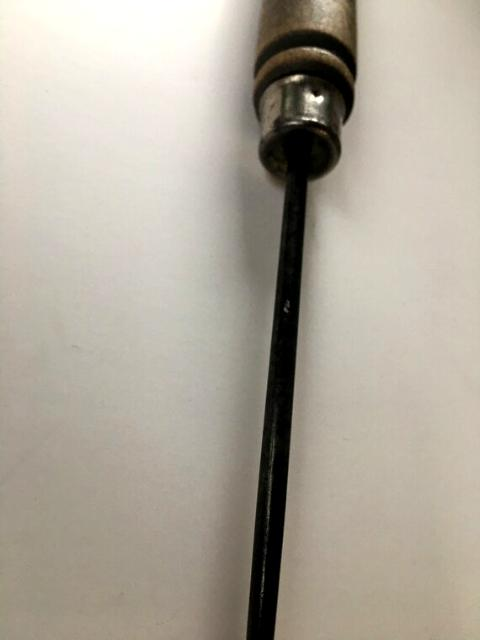ice pick: (244, 0, 358, 640)
